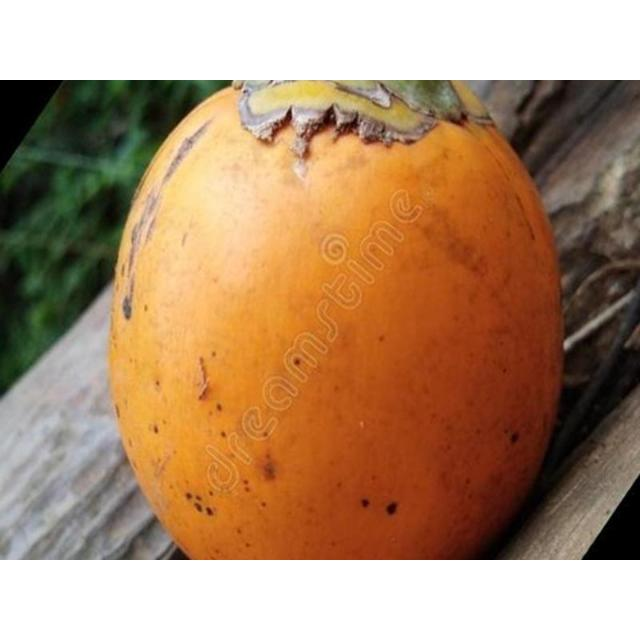good: (106, 80, 566, 559)
